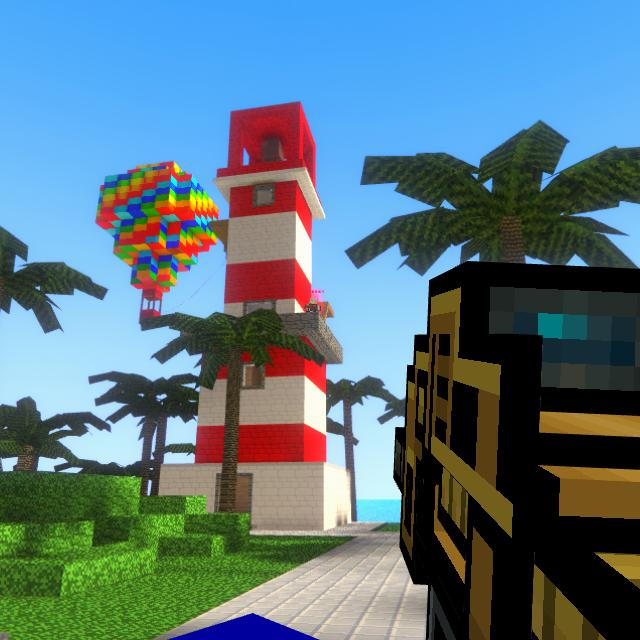Enemy: (304, 298, 321, 312)
